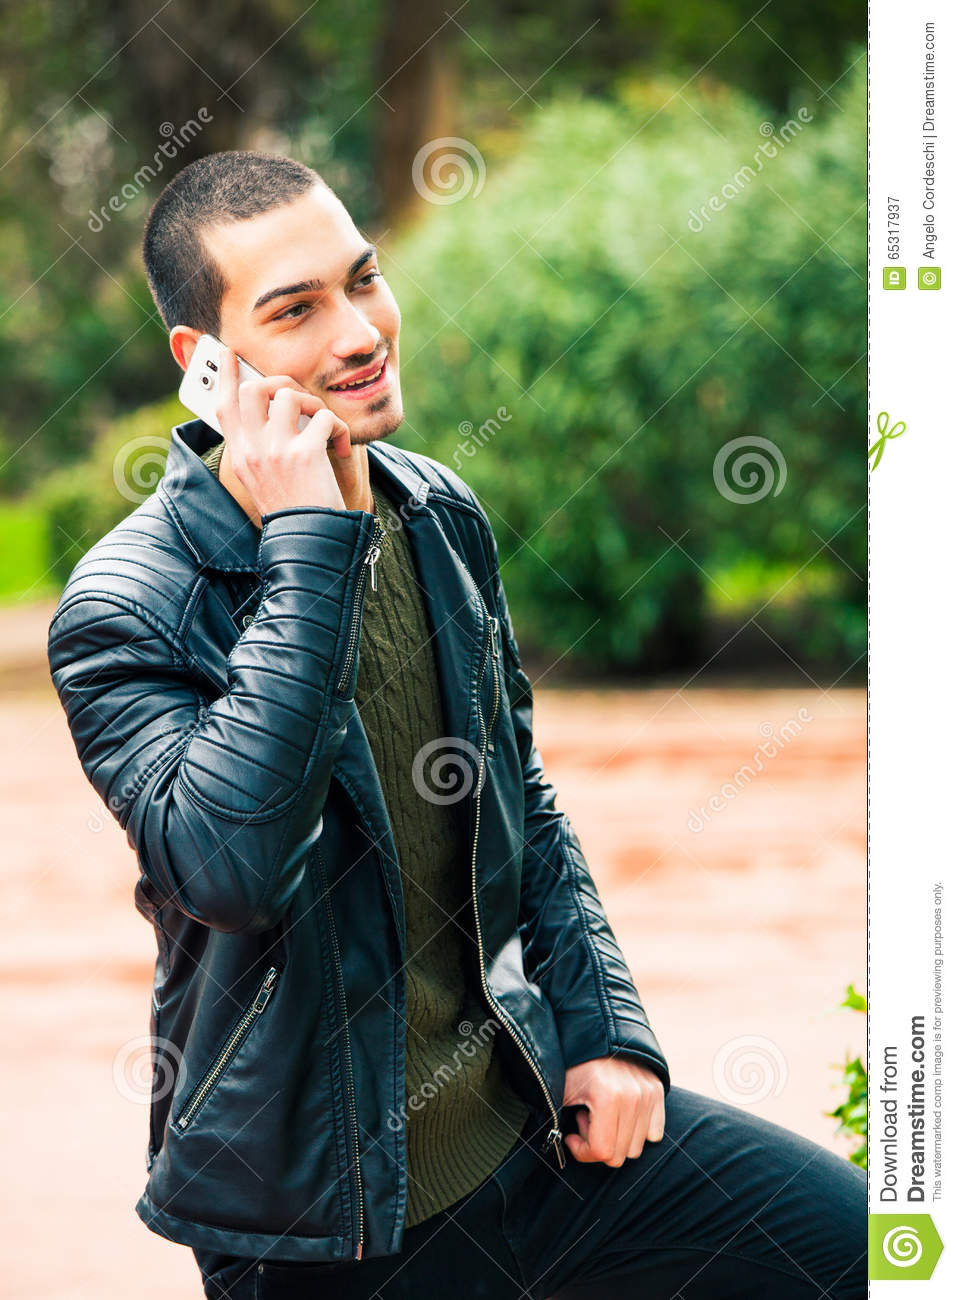talk: (178, 239, 405, 525)
